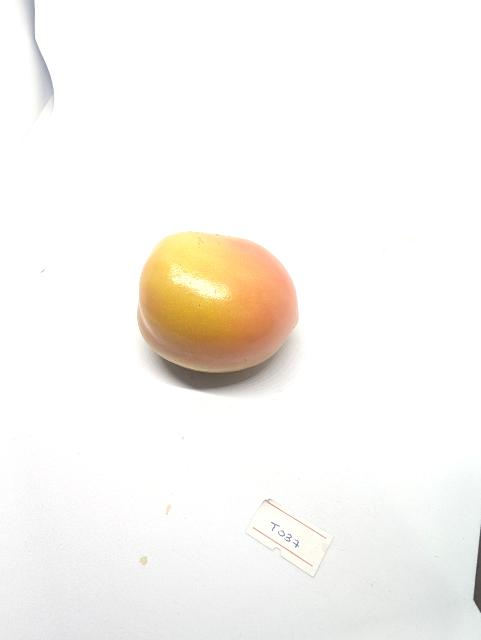turning: (129, 223, 314, 383)
